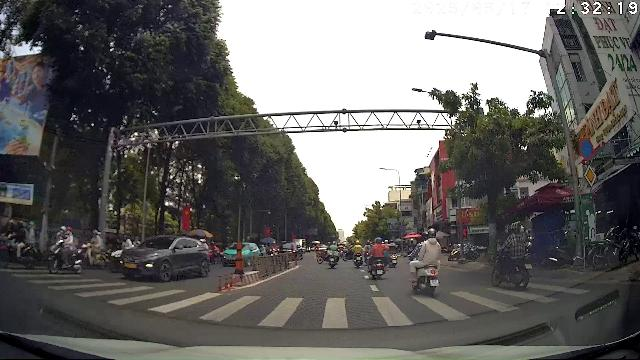131a-cam-do-xe: (578, 139, 594, 160)
